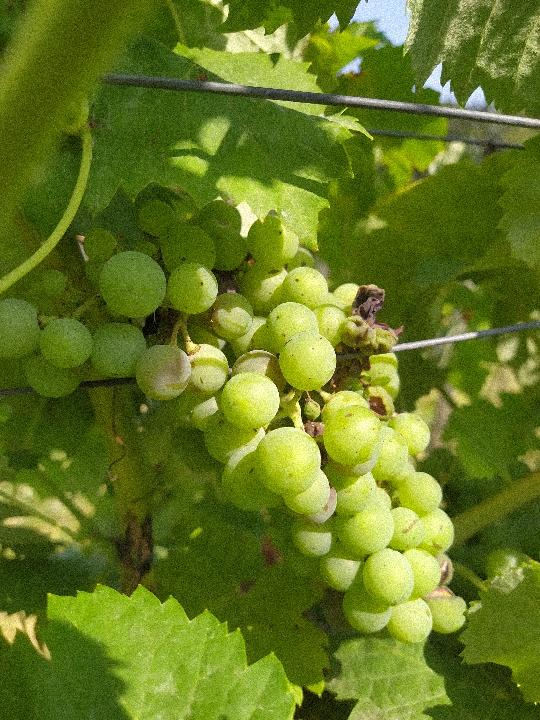grape: (5, 198, 468, 646)
